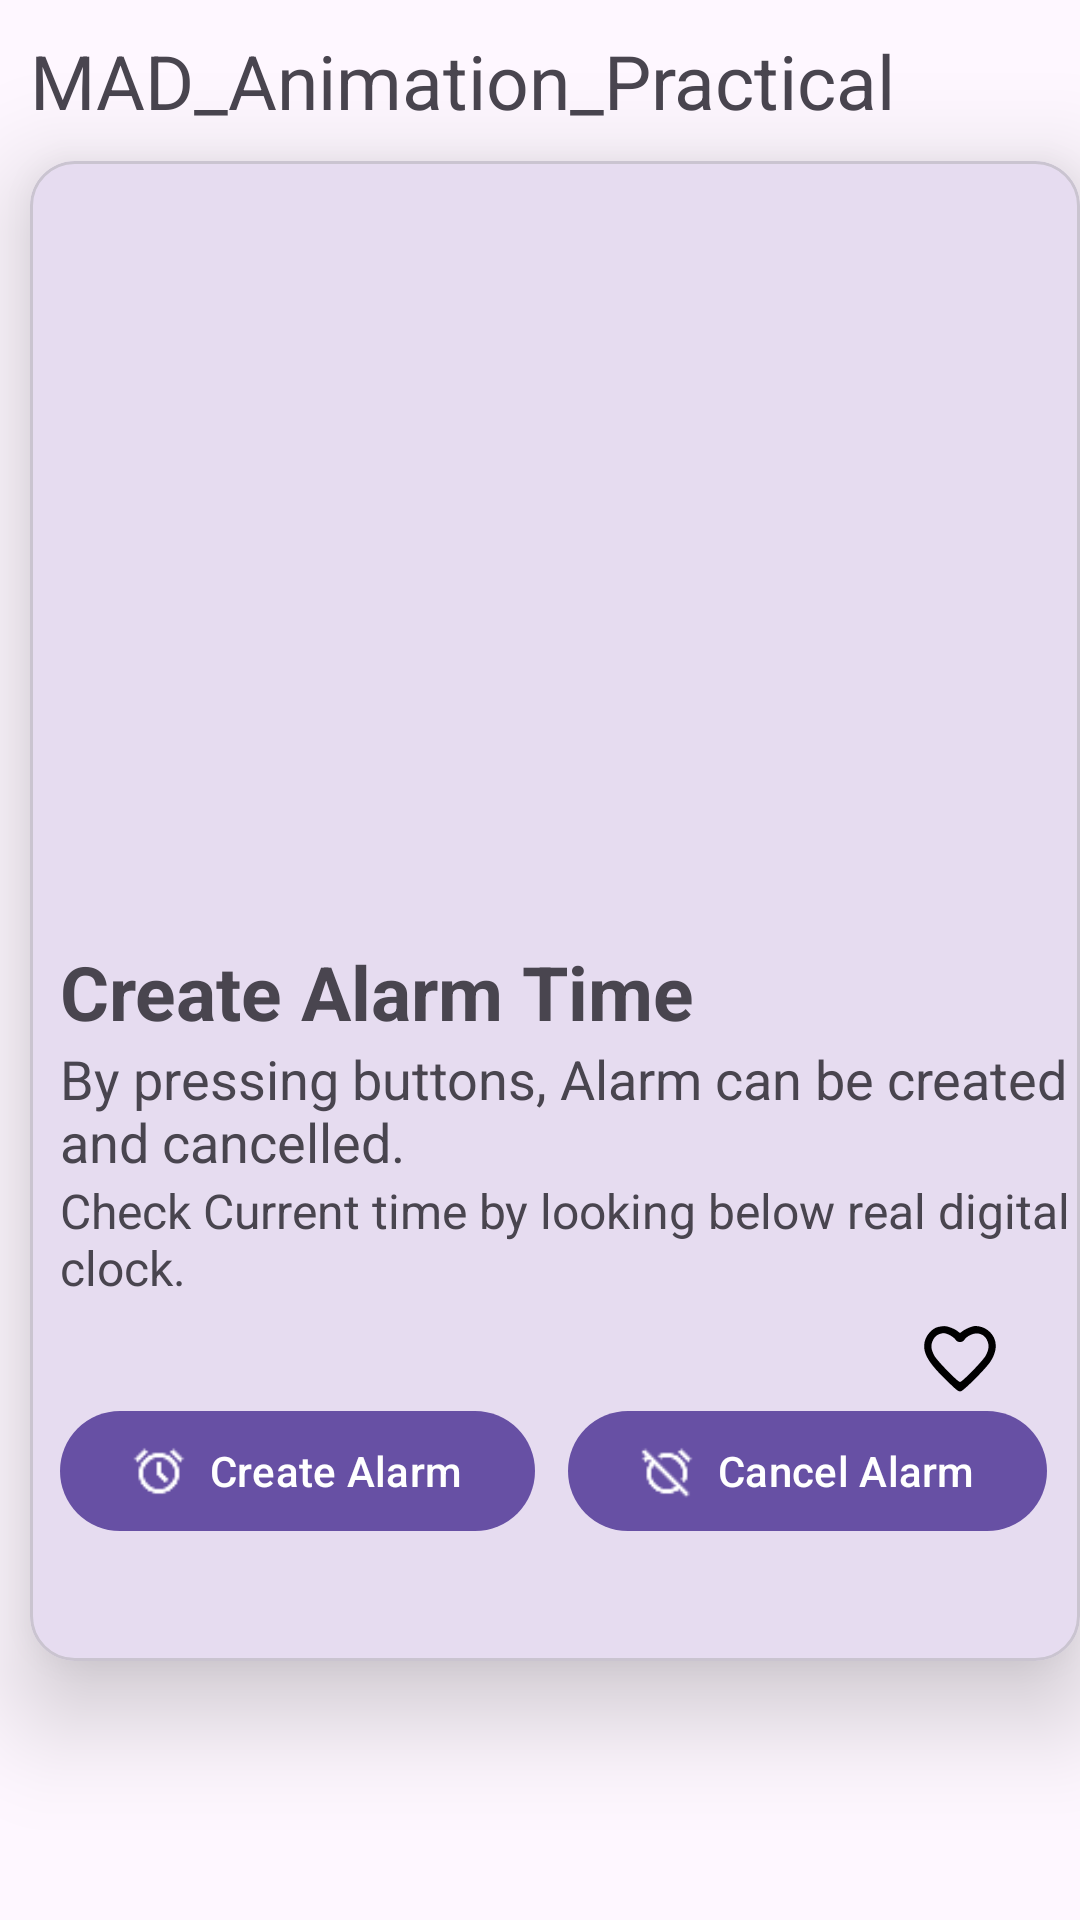

Icons on this 1080×1920 Android screen, each with its box as (x1, y1, x2, y2):
heart animation: (924, 1326, 996, 1392)
